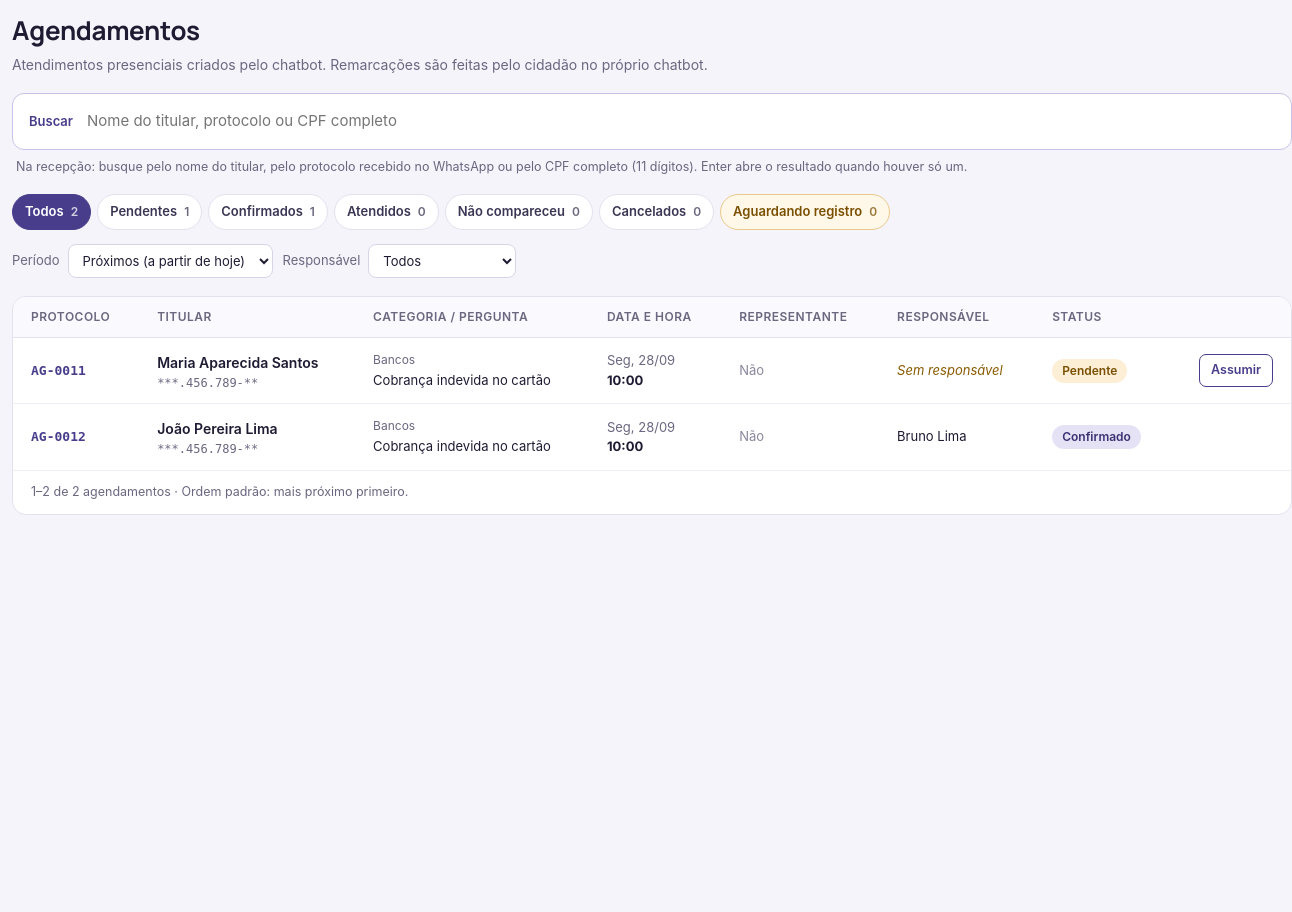
Test case: Appointments.page: Assumir › com 409 APPOINTMENT_ALREADY_CLAIMED avisa a mensagem do code e rebusca a lista e o contador
Expected: the text "Maria Aparecida Santos" is shown, [157,352,337,372]
Step 1. Click the button "Assumir" → (1236, 370), box [1199,354,1273,387]
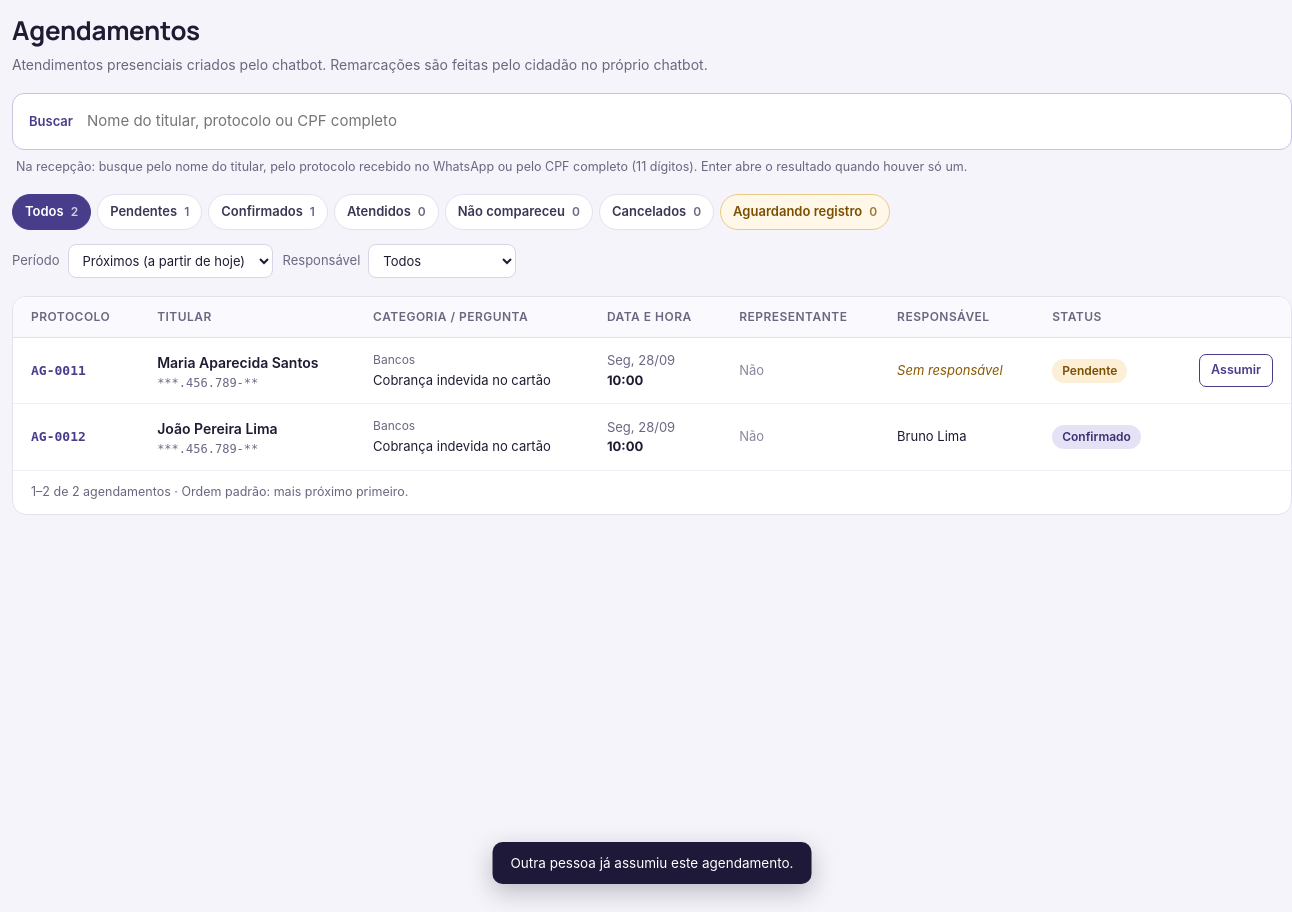
Expected: the text "Outra pessoa já assumiu este agendamento." is shown, [492,842,812,884]
